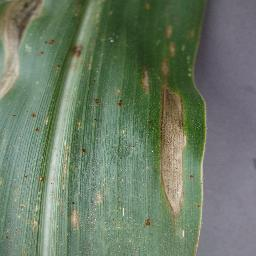Corn_Blight: (162, 84, 187, 237), (0, 0, 24, 101), (14, 191, 45, 236), (158, 24, 182, 82), (56, 36, 92, 74), (185, 23, 201, 80), (192, 197, 206, 251), (26, 0, 48, 30), (8, 170, 48, 186), (62, 134, 73, 192), (139, 65, 154, 103), (89, 97, 105, 131), (69, 199, 80, 237), (99, 30, 122, 47), (39, 35, 54, 59), (27, 111, 43, 133), (67, 0, 84, 20), (91, 191, 108, 208), (142, 212, 154, 234), (115, 95, 128, 110), (142, 0, 155, 15), (105, 4, 118, 19), (187, 168, 195, 192), (73, 114, 83, 131), (80, 145, 90, 161)
